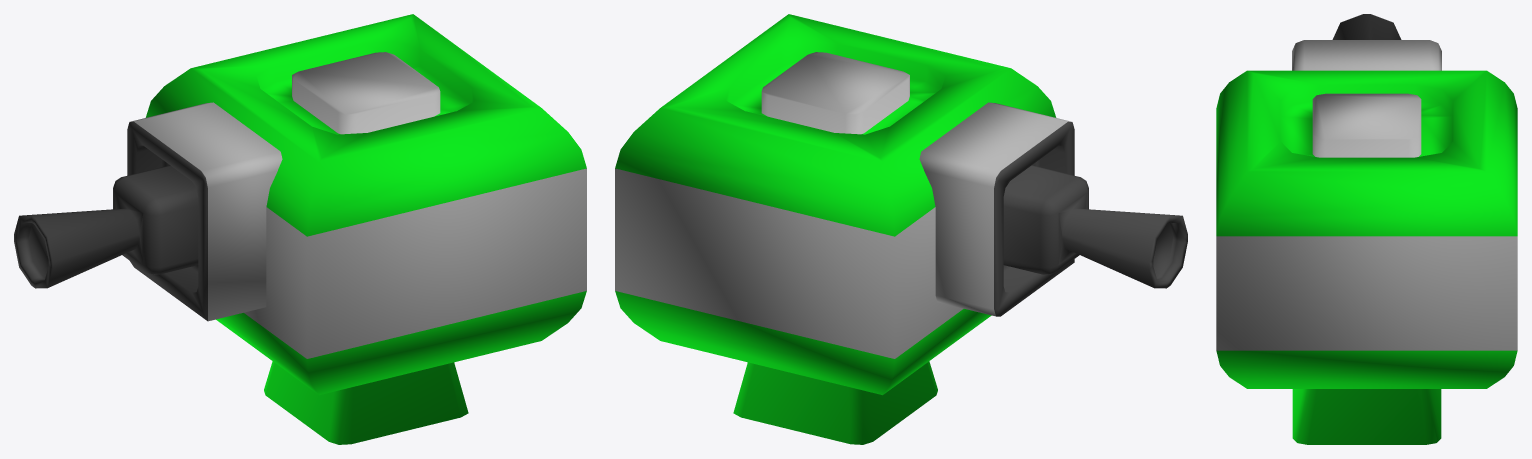
Rendered from cannon.glb.
3 views of the same model, side by side, from view 1: azimuth 30°, elevation 25°; view 2: azimuth 150°, elevation 25°; view 3: azimuth 270°, elevation 25° (orthographic). The views are drawn at different scales.
Parts seen in each view (by area): view 1: Cannon, Cannon head; view 2: Cannon, Cannon head; view 3: Cannon, Cannon head.
Part boxes in pixels (x1=…): Cannon: x1=145, y1=14, x2=586, y2=444; Cannon head: x1=14, y1=102, x2=282, y2=321; Cannon: x1=615, y1=14, x2=1056, y2=444; Cannon head: x1=919, y1=102, x2=1187, y2=316; Cannon: x1=1216, y1=70, x2=1517, y2=444; Cannon head: x1=1292, y1=14, x2=1441, y2=70.
Size of the model in its own units: 3.38 by 2.17 by 2.
